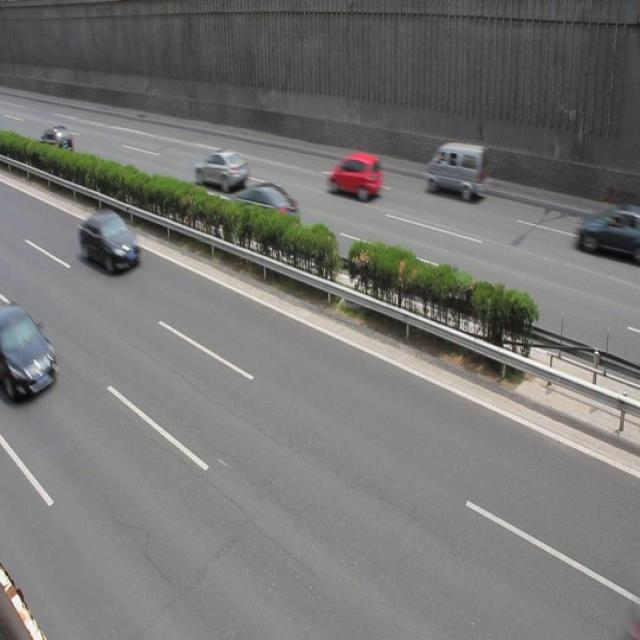car: (1, 297, 56, 401), (228, 180, 301, 240), (79, 210, 141, 275), (574, 204, 629, 257), (326, 153, 381, 205), (195, 150, 249, 191), (42, 124, 75, 160)
truck: (424, 144, 487, 202)
